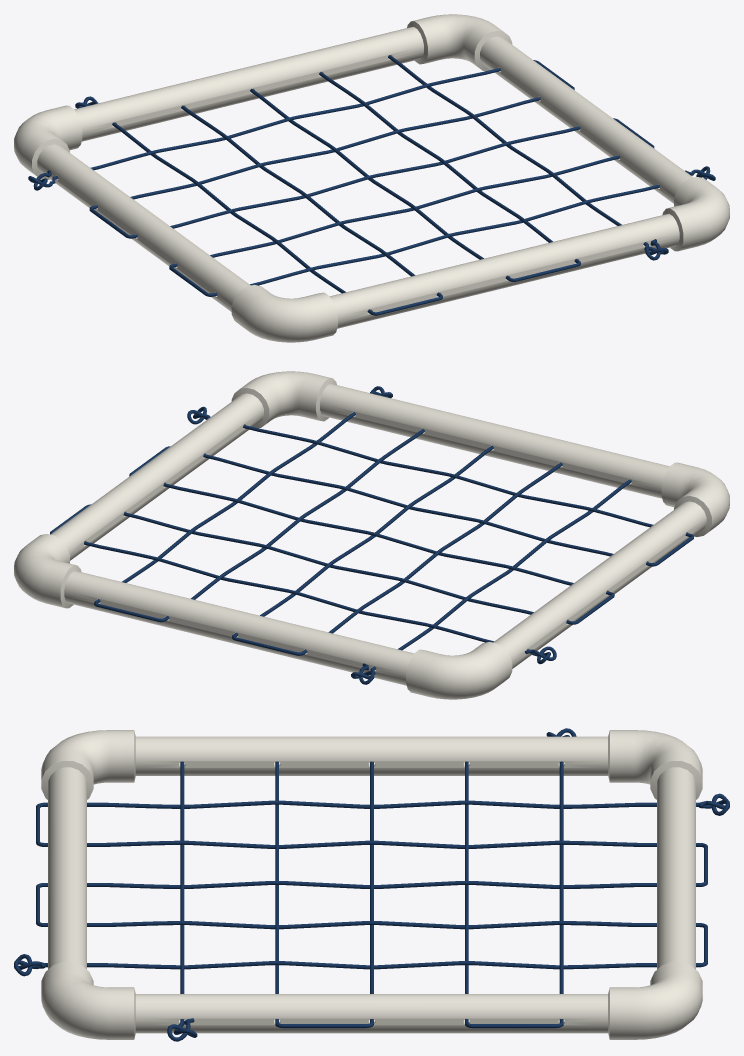
File: NEW678_survey_quadrat_LOD2.glb
The picture shows the model from 3 angles, top to bottom: view 1: azimuth 30°, elevation 25°; view 2: azimuth 150°, elevation 25°; view 3: azimuth 270°, elevation 25°; orthographic projection. The views are drawn at different scales.
Visible parts, largest first — view 1: NEW678_PVC_FRAME, NEW678_CORD_H, NEW678_CORD_V; view 2: NEW678_PVC_FRAME, NEW678_CORD_H, NEW678_CORD_V; view 3: NEW678_PVC_FRAME, NEW678_CORD_V, NEW678_CORD_H.
Part boxes in pixels (left/top/right/bottom): NEW678_PVC_FRAME: left=14, top=14, right=729, bottom=342; NEW678_CORD_H: left=28, top=60, right=715, bottom=296; NEW678_CORD_V: left=75, top=55, right=668, bottom=315; NEW678_PVC_FRAME: left=14, top=371, right=729, bottom=699; NEW678_CORD_H: left=50, top=406, right=693, bottom=664; NEW678_CORD_V: left=94, top=386, right=631, bottom=684; NEW678_PVC_FRAME: left=41, top=730, right=702, bottom=1039; NEW678_CORD_V: left=14, top=793, right=729, bottom=976; NEW678_CORD_H: left=167, top=728, right=576, bottom=1041.
Size of the model in its own units: 0.3774 by 0.0275 by 0.3774.
